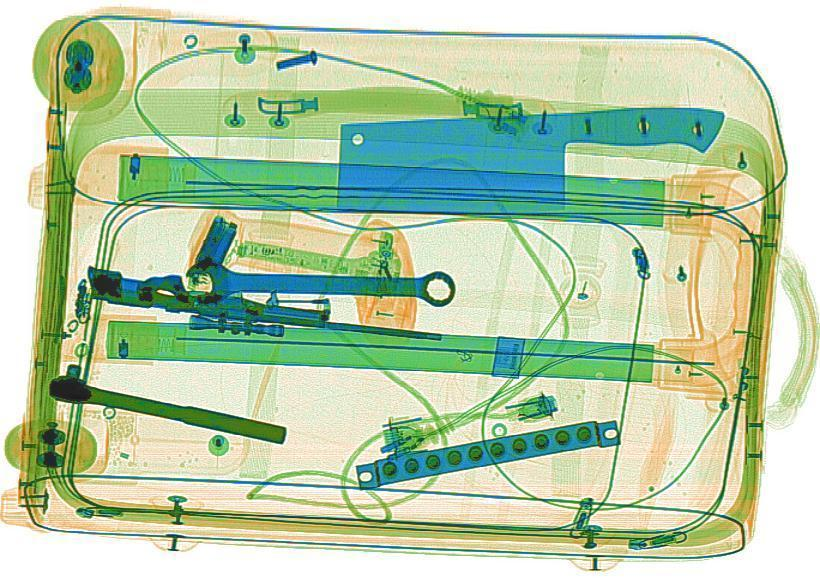Gun: (79, 263, 450, 355)
Knife: (329, 106, 728, 215)
Wrench: (182, 259, 457, 309)
